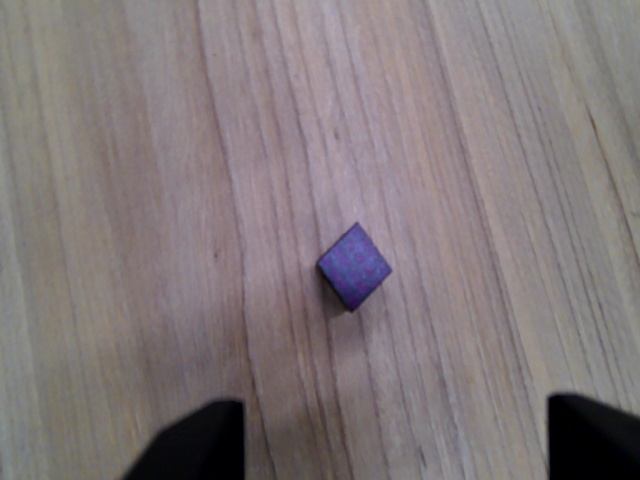brick: (315, 221, 391, 314)
